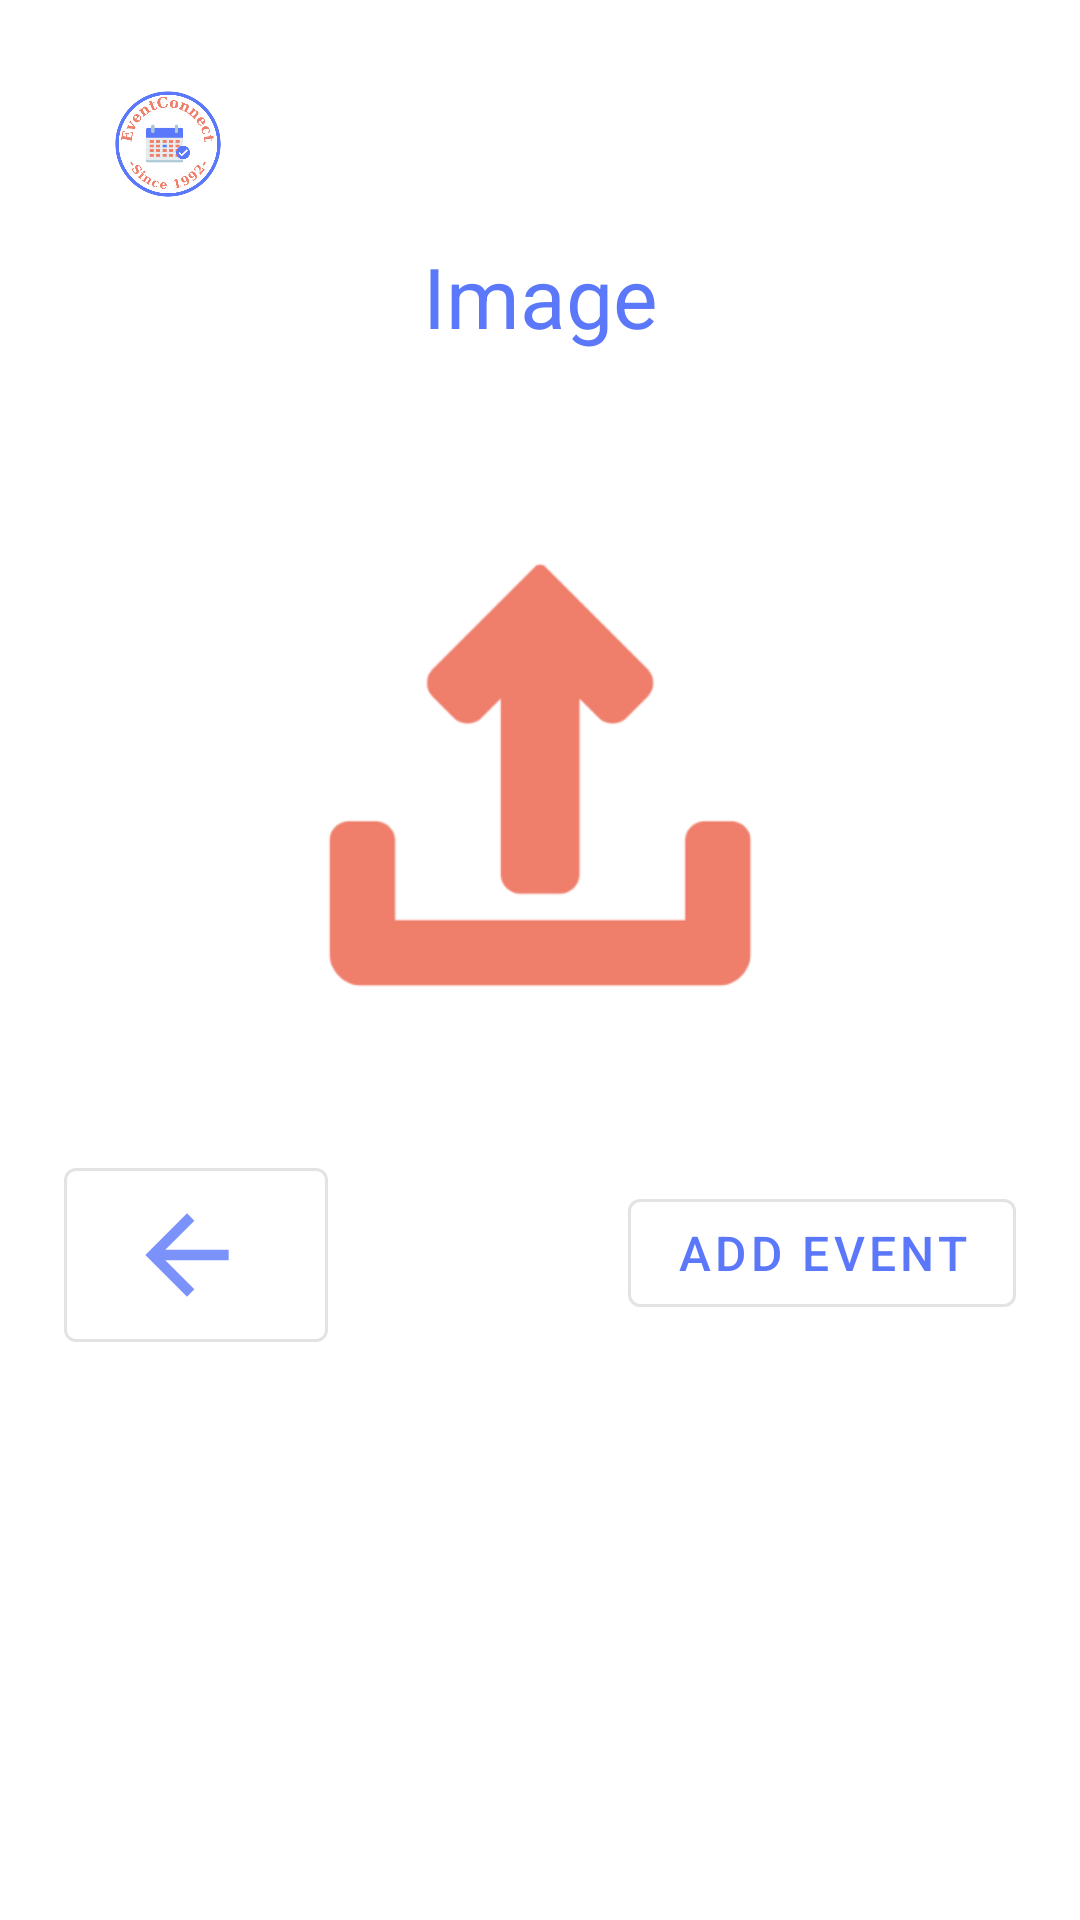

Icons on this 1080px×1920px Android screen, each with its box as bbox=[x1, y1, x2, y2]:
back: bbox=[64, 1168, 328, 1342]
